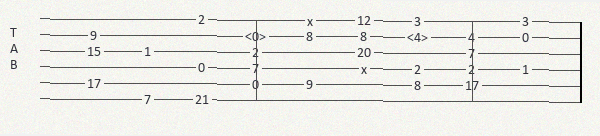0: (198, 62, 209, 75), (252, 78, 263, 91), (522, 30, 533, 43)
1: (144, 46, 155, 59), (522, 62, 533, 75)
12: (357, 14, 375, 27)
15: (87, 46, 105, 59)
17: (87, 78, 105, 91), (465, 78, 483, 91)
2: (198, 14, 209, 27), (252, 46, 263, 59), (414, 62, 425, 75), (468, 62, 479, 75)
20: (357, 46, 375, 59)
21: (195, 94, 213, 107)
3: (414, 14, 425, 27), (522, 14, 533, 27)
4: (468, 30, 479, 43)
7: (144, 94, 155, 107), (252, 62, 263, 75), (468, 46, 479, 59)
8: (306, 30, 317, 43), (360, 30, 371, 43), (414, 78, 425, 91)
9: (90, 30, 101, 43), (306, 78, 317, 91)
harmonic: (245, 30, 270, 43), (407, 30, 432, 43)
x: (307, 15, 317, 26), (361, 63, 371, 74)
